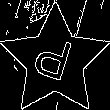P_S: (31, 31, 79, 91)
